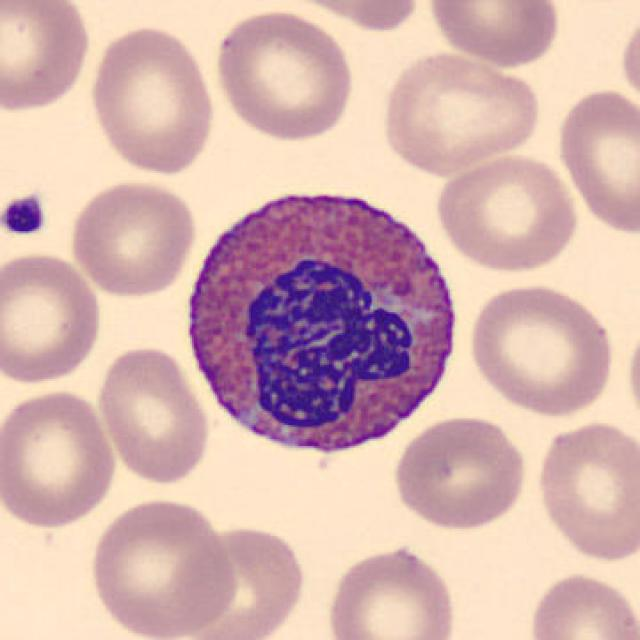Eosinophil: (172, 166, 473, 478)
Platelets: (0, 190, 50, 240)
RBC: (85, 493, 239, 640), (464, 278, 617, 418), (377, 48, 542, 176), (85, 21, 219, 178), (210, 7, 356, 143), (432, 152, 581, 275), (92, 342, 214, 487), (0, 386, 121, 531), (389, 411, 532, 532), (66, 176, 199, 300), (176, 522, 309, 640), (532, 416, 638, 564), (0, 248, 105, 388), (553, 83, 640, 238), (322, 543, 460, 640), (0, 0, 94, 115), (425, 0, 565, 69), (524, 569, 640, 640), (281, 0, 427, 33), (617, 7, 640, 116), (624, 309, 640, 437)
